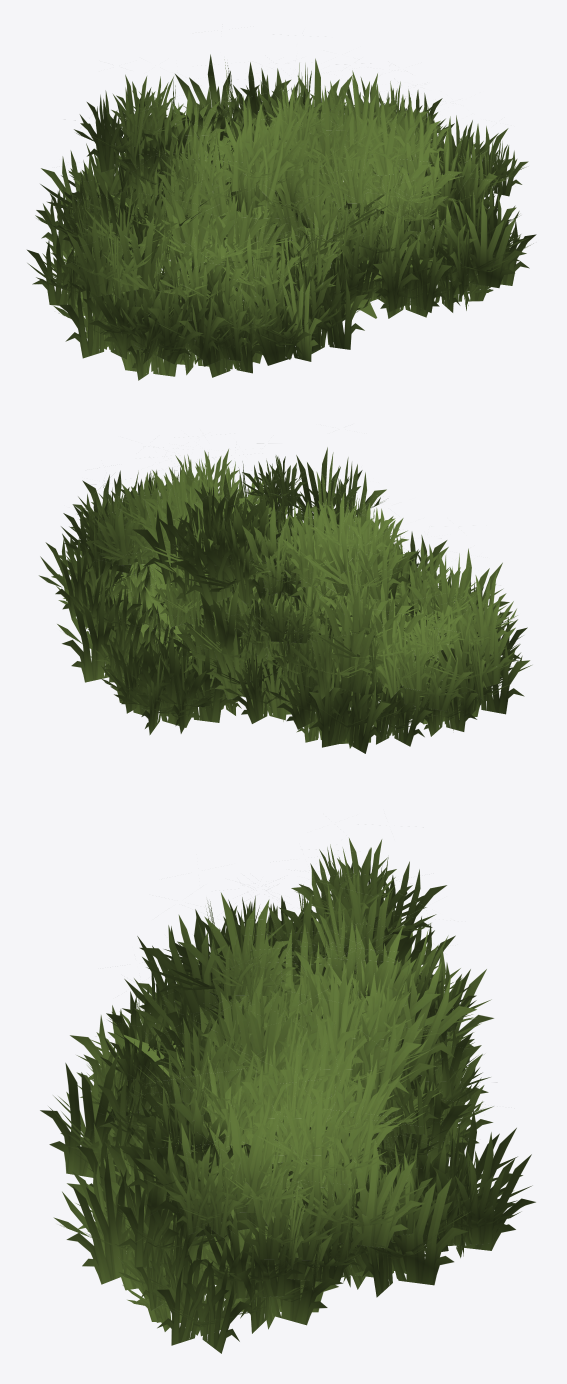
The model's file is samurai_SM_Env_Bush_01.gltf.
3 views of the same model, one above another, from view 1: azimuth 30°, elevation 25°; view 2: azimuth 150°, elevation 25°; view 3: azimuth 270°, elevation 25° (orthographic). The views are drawn at different scales.
Parts seen in each view (by area): view 1: SM_Env_Bush_01_LOD0, SM_Env_Bush_01_Branches_LOD0; view 2: SM_Env_Bush_01_LOD0, SM_Env_Bush_01_Branches_LOD0; view 3: SM_Env_Bush_01_LOD0.
Boxes of the visible parts, <box> form: SM_Env_Bush_01_LOD0: <box>27,54,536,380</box>; SM_Env_Bush_01_Branches_LOD0: <box>111,180,432,339</box>; SM_Env_Bush_01_LOD0: <box>39,436,531,753</box>; SM_Env_Bush_01_Branches_LOD0: <box>127,564,438,728</box>; SM_Env_Bush_01_LOD0: <box>40,838,535,1353</box>.
Size of what is drawn, in the model's own units: 4.05 by 2.16 by 2.81.
2 materials, 2 textured.
